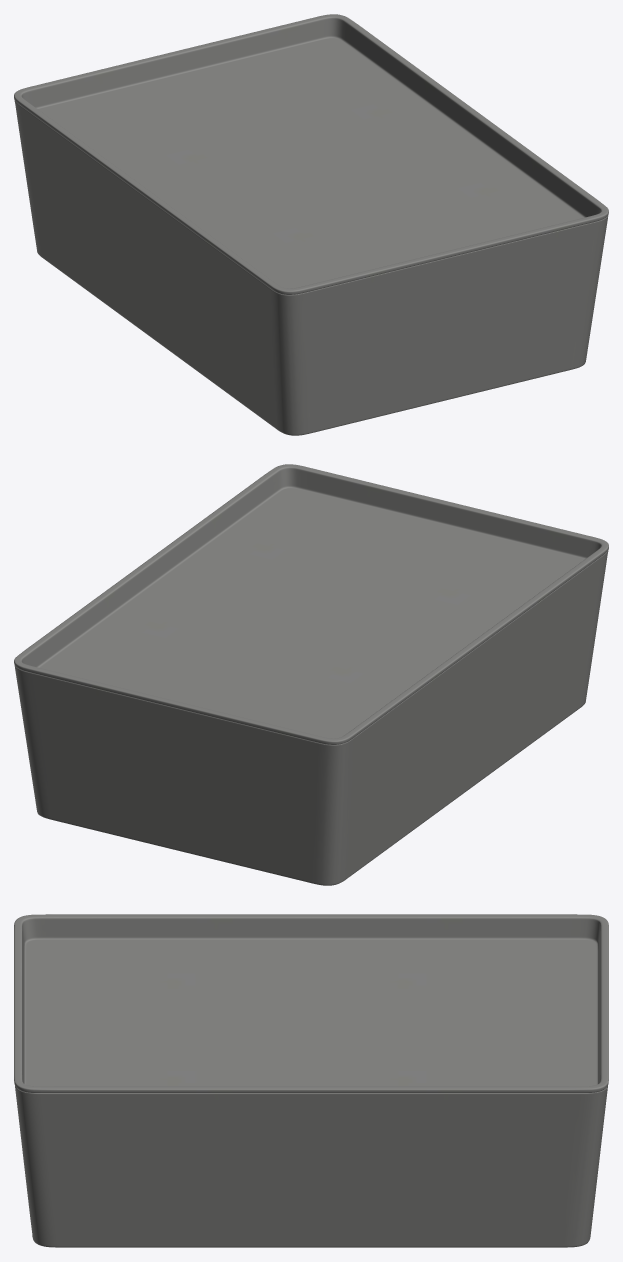
The model's file is 31 - KUGGIS - 附蓋收納盒, 淺灰色, 18x26x8 公分 IKEA 線上購物.glb.
The picture shows the model from 3 angles, top to bottom: view 1: azimuth 30°, elevation 25°; view 2: azimuth 150°, elevation 25°; view 3: azimuth 270°, elevation 25°; orthographic projection. The views are drawn at different scales.
Parts seen in each view (by area): view 1: 49596758_02; view 2: 49596758_02; view 3: 49596758_02.
Part boxes in pixels (left/top/right/bottom): 49596758_02: left=14, top=14, right=608, bottom=435; 49596758_02: left=14, top=464, right=608, bottom=885; 49596758_02: left=14, top=914, right=608, bottom=1247.
Bounding box in the file's own units: 0.1802 × 0.08 × 0.2586.
Materials: 1 (1 with a texture image).
